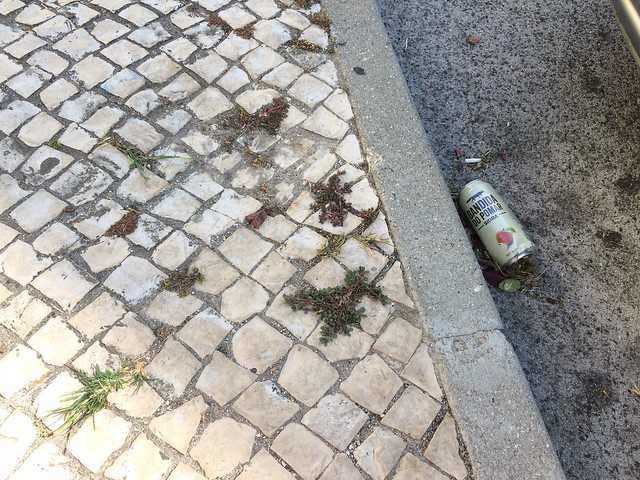can: (456, 175, 536, 271)
